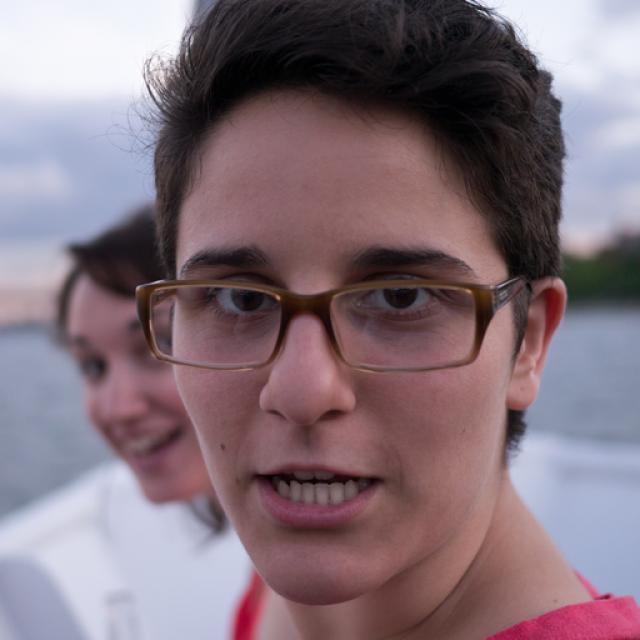neutral: (169, 78, 518, 606), (62, 274, 216, 498)
